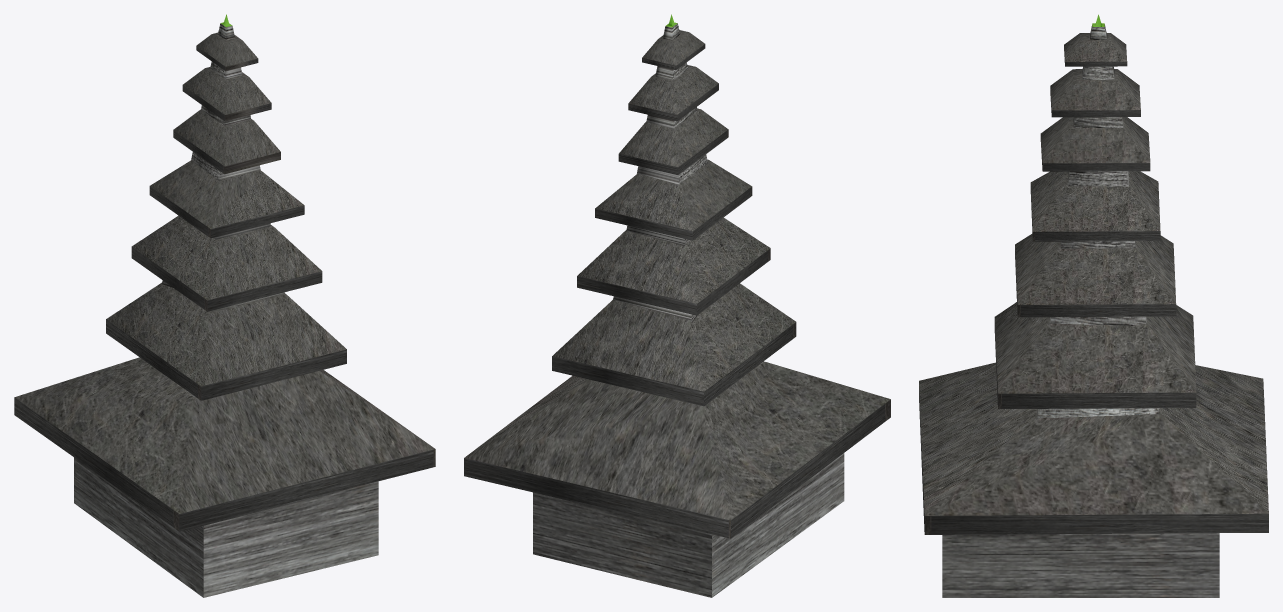
File: Templo.FBX
3 views of the same model, side by side, from view 1: azimuth 30°, elevation 25°; view 2: azimuth 150°, elevation 25°; view 3: azimuth 270°, elevation 25° (orthographic). The views are drawn at different scales.
Visible parts, largest first — view 1: Box051; view 2: Box051; view 3: Box051.
Part boxes in pixels (x1,y1,x2,y2): Box051: (14,14,435,597); Box051: (464,14,890,597); Box051: (919,14,1268,597).
Size of the model in its own units: 140 by 258 by 151.
